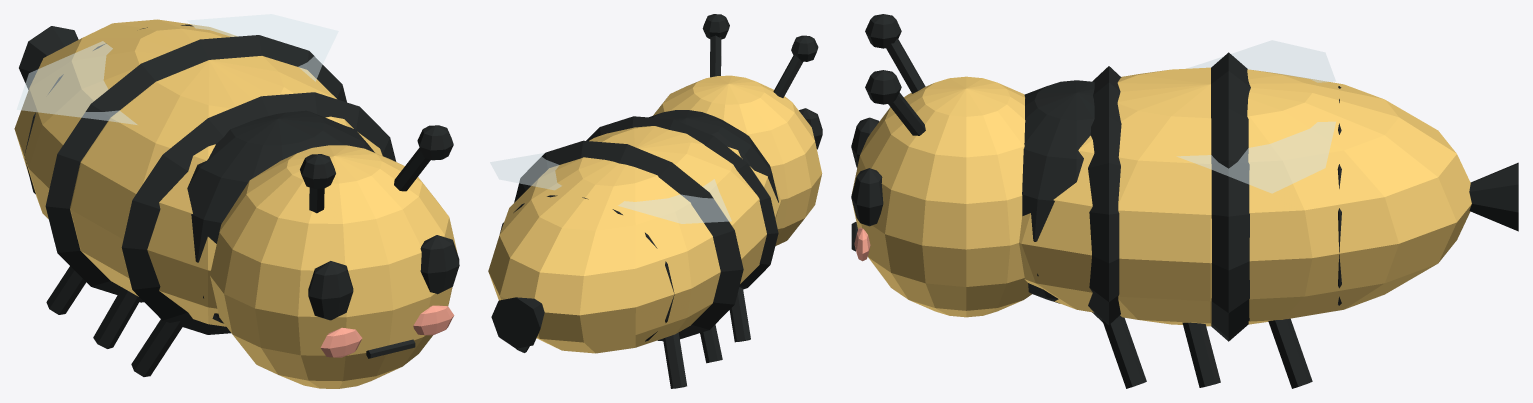
The model's file is Bee.glb.
3 renders of one model, left to right at view 1: azimuth 30°, elevation 25°; view 2: azimuth 150°, elevation 25°; view 3: azimuth 270°, elevation 25°, orthographic. The views are drawn at different scales.
Visible parts, largest first — view 1: Bee_Head, Bee_Body, Bee_StripeMiddle, Bee_StripeFront, Bee_Thorax, Bee_Wing_L, Bee_Wing_R, Bee_Eye_L, Bee_Eye_R, Bee_Stinger, Bee_Leg_L1, Bee_Leg_L2 (+7 smaller); view 2: Bee_Body, Bee_Head, Bee_StripeMiddle, Bee_StripeFront, Bee_Wing_L, Bee_Thorax, Bee_Stinger, Bee_Wing_R, Bee_Leg_L3, Bee_Leg_L1, Bee_Leg_L2, Bee_AntennaTip_L (+5 smaller); view 3: Bee_Body, Bee_Head, Bee_StripeMiddle, Bee_Thorax, Bee_StripeFront, Bee_Wing_R, Bee_Wing_L, Bee_Stinger, Bee_Leg_R3, Bee_Leg_R1, Bee_Eye_R, Bee_Leg_R2 (+5 smaller).
Boxes of the visible parts, bbox=[...] form: Bee_Head: bbox=[210, 145, 457, 388]; Bee_Body: bbox=[14, 19, 382, 326]; Bee_StripeMiddle: bbox=[45, 35, 346, 302]; Bee_StripeFront: bbox=[121, 92, 396, 334]; Bee_Thorax: bbox=[187, 110, 374, 323]; Bee_Wing_L: bbox=[17, 41, 137, 124]; Bee_Wing_R: bbox=[187, 14, 338, 81]; Bee_Eye_L: bbox=[308, 261, 353, 320]; Bee_Eye_R: bbox=[420, 235, 459, 294]; Bee_Stinger: bbox=[19, 26, 78, 89]; Bee_Leg_L1: bbox=[131, 319, 182, 376]; Bee_Leg_L2: bbox=[93, 287, 140, 348]; Bee_Body: bbox=[488, 126, 780, 353]; Bee_Head: bbox=[653, 75, 822, 245]; Bee_StripeMiddle: bbox=[514, 140, 743, 341]; Bee_StripeFront: bbox=[586, 116, 778, 289]; Bee_Wing_L: bbox=[618, 179, 731, 223]; Bee_Thorax: bbox=[649, 110, 778, 202]; Bee_Stinger: bbox=[491, 297, 544, 348]; Bee_Wing_R: bbox=[490, 153, 561, 190]; Bee_Leg_L3: bbox=[663, 332, 686, 388]; Bee_Leg_L1: bbox=[729, 287, 750, 342]; Bee_Leg_L2: bbox=[700, 324, 722, 363]; Bee_AntennaTip_L: bbox=[791, 35, 818, 61]; Bee_Body: bbox=[1019, 67, 1471, 326]; Bee_Head: bbox=[851, 76, 1031, 317]; Bee_StripeMiddle: bbox=[1211, 52, 1250, 341]; Bee_Thorax: bbox=[1022, 80, 1094, 303]; Bee_StripeFront: bbox=[1088, 66, 1121, 324]; Bee_Wing_R: bbox=[1177, 121, 1335, 193]; Bee_Wing_L: bbox=[1187, 40, 1335, 82]; Bee_Stinger: bbox=[1469, 162, 1518, 231]; Bee_Leg_R3: bbox=[1268, 318, 1312, 388]; Bee_Leg_R1: bbox=[1102, 315, 1146, 388]; Bee_Eye_R: bbox=[851, 168, 883, 226]; Bee_Leg_R2: bbox=[1182, 322, 1220, 387].
Size of the model in its own units: 0.7894 by 0.7119 by 1.45.
